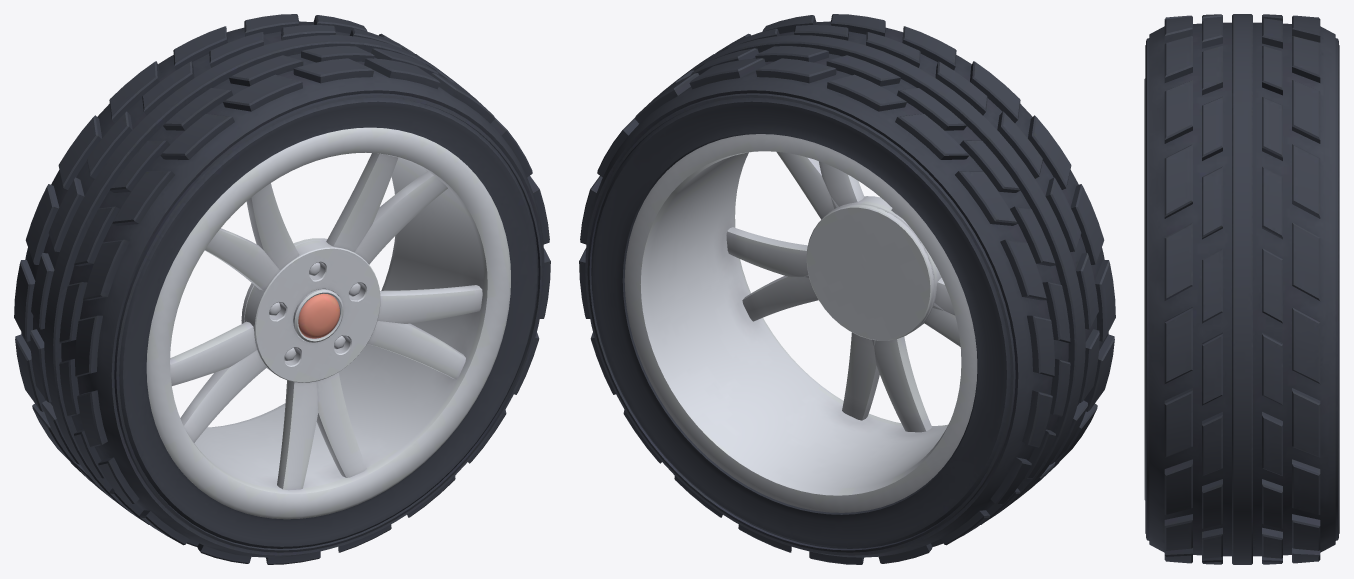
The model's file is alloy-wheel.glb.
3 renders of one model, left to right at view 1: azimuth 30°, elevation 25°; view 2: azimuth 150°, elevation 25°; view 3: azimuth 270°, elevation 25°, orthographic. The views are drawn at different scales.
Parts seen in each view (by area): view 1: alloy-wheel_body; view 2: alloy-wheel_body; view 3: alloy-wheel_body.
Boxes of the visible parts, x1,y1,x2,y2 form: alloy-wheel_body: (14,14,550,564); alloy-wheel_body: (579,14,1115,564); alloy-wheel_body: (1144,14,1339,564).
Bounding box in the file's own units: 0.6377 × 0.6377 × 0.226.
1 material, 1 textured.
